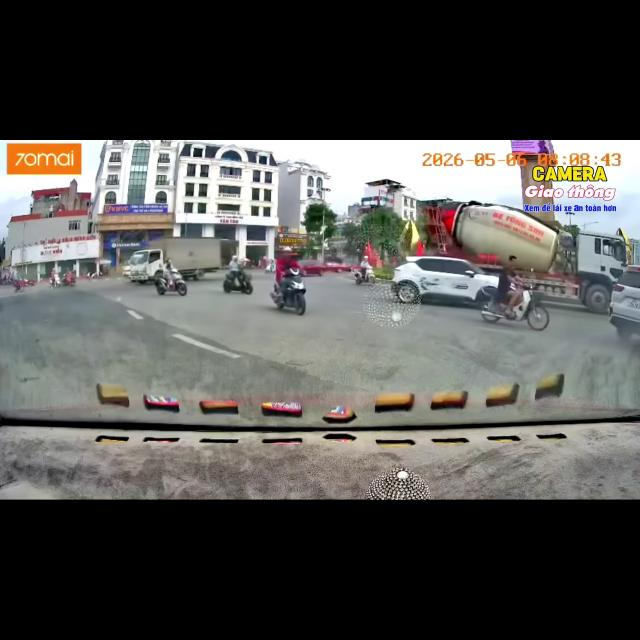car: (392, 257, 498, 304), (609, 266, 639, 339), (298, 260, 324, 275), (324, 258, 351, 272)
motorcycle: (481, 285, 549, 330), (271, 268, 305, 315), (155, 270, 187, 295), (223, 272, 253, 294), (354, 268, 375, 284), (63, 271, 75, 286), (13, 280, 27, 292), (49, 274, 59, 288), (265, 261, 275, 272)
truck: (423, 200, 627, 313), (128, 238, 236, 283)
